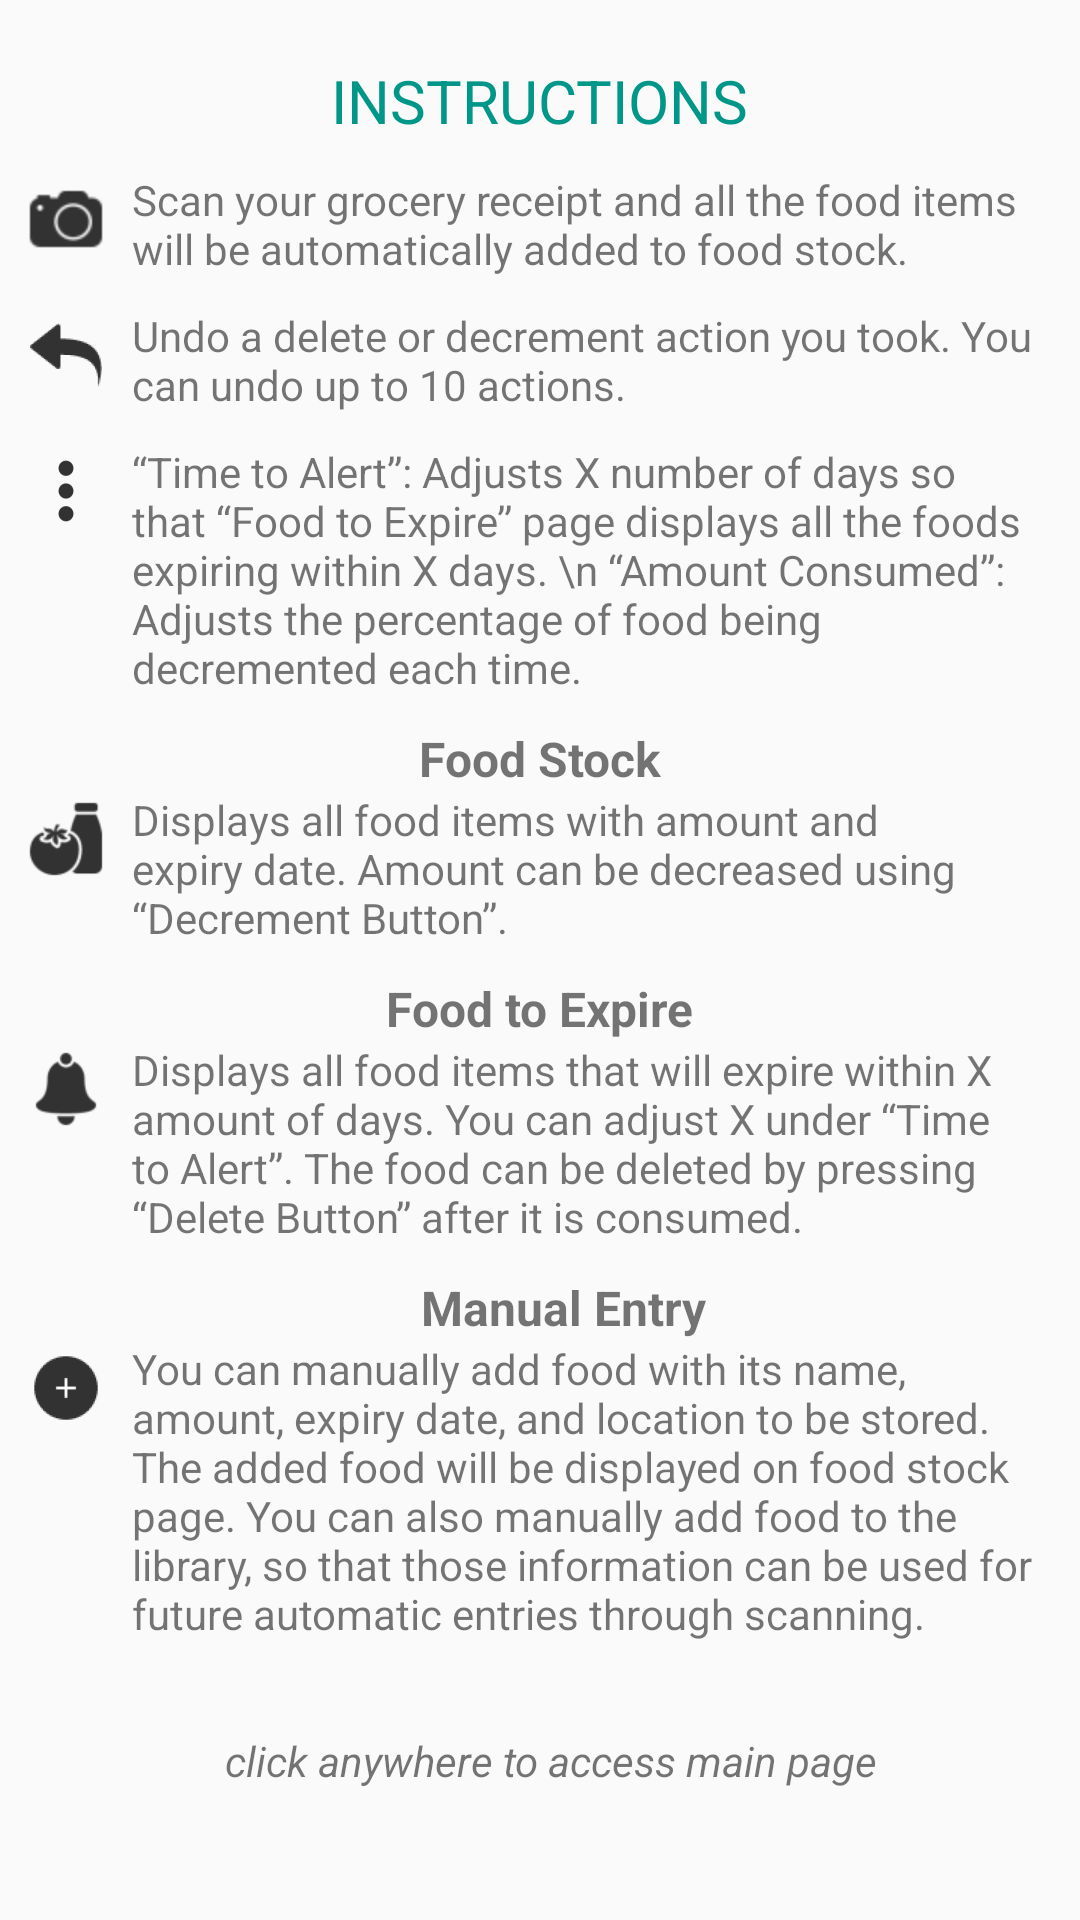

Icon bounding boxes for this 1080 × 1920 phone screenshot, format (x1, y1, x2, y2):
camera: (29, 190, 103, 248)
food stock: (29, 802, 103, 876)
menu: (58, 460, 74, 522)
plus: (34, 1356, 98, 1420)
